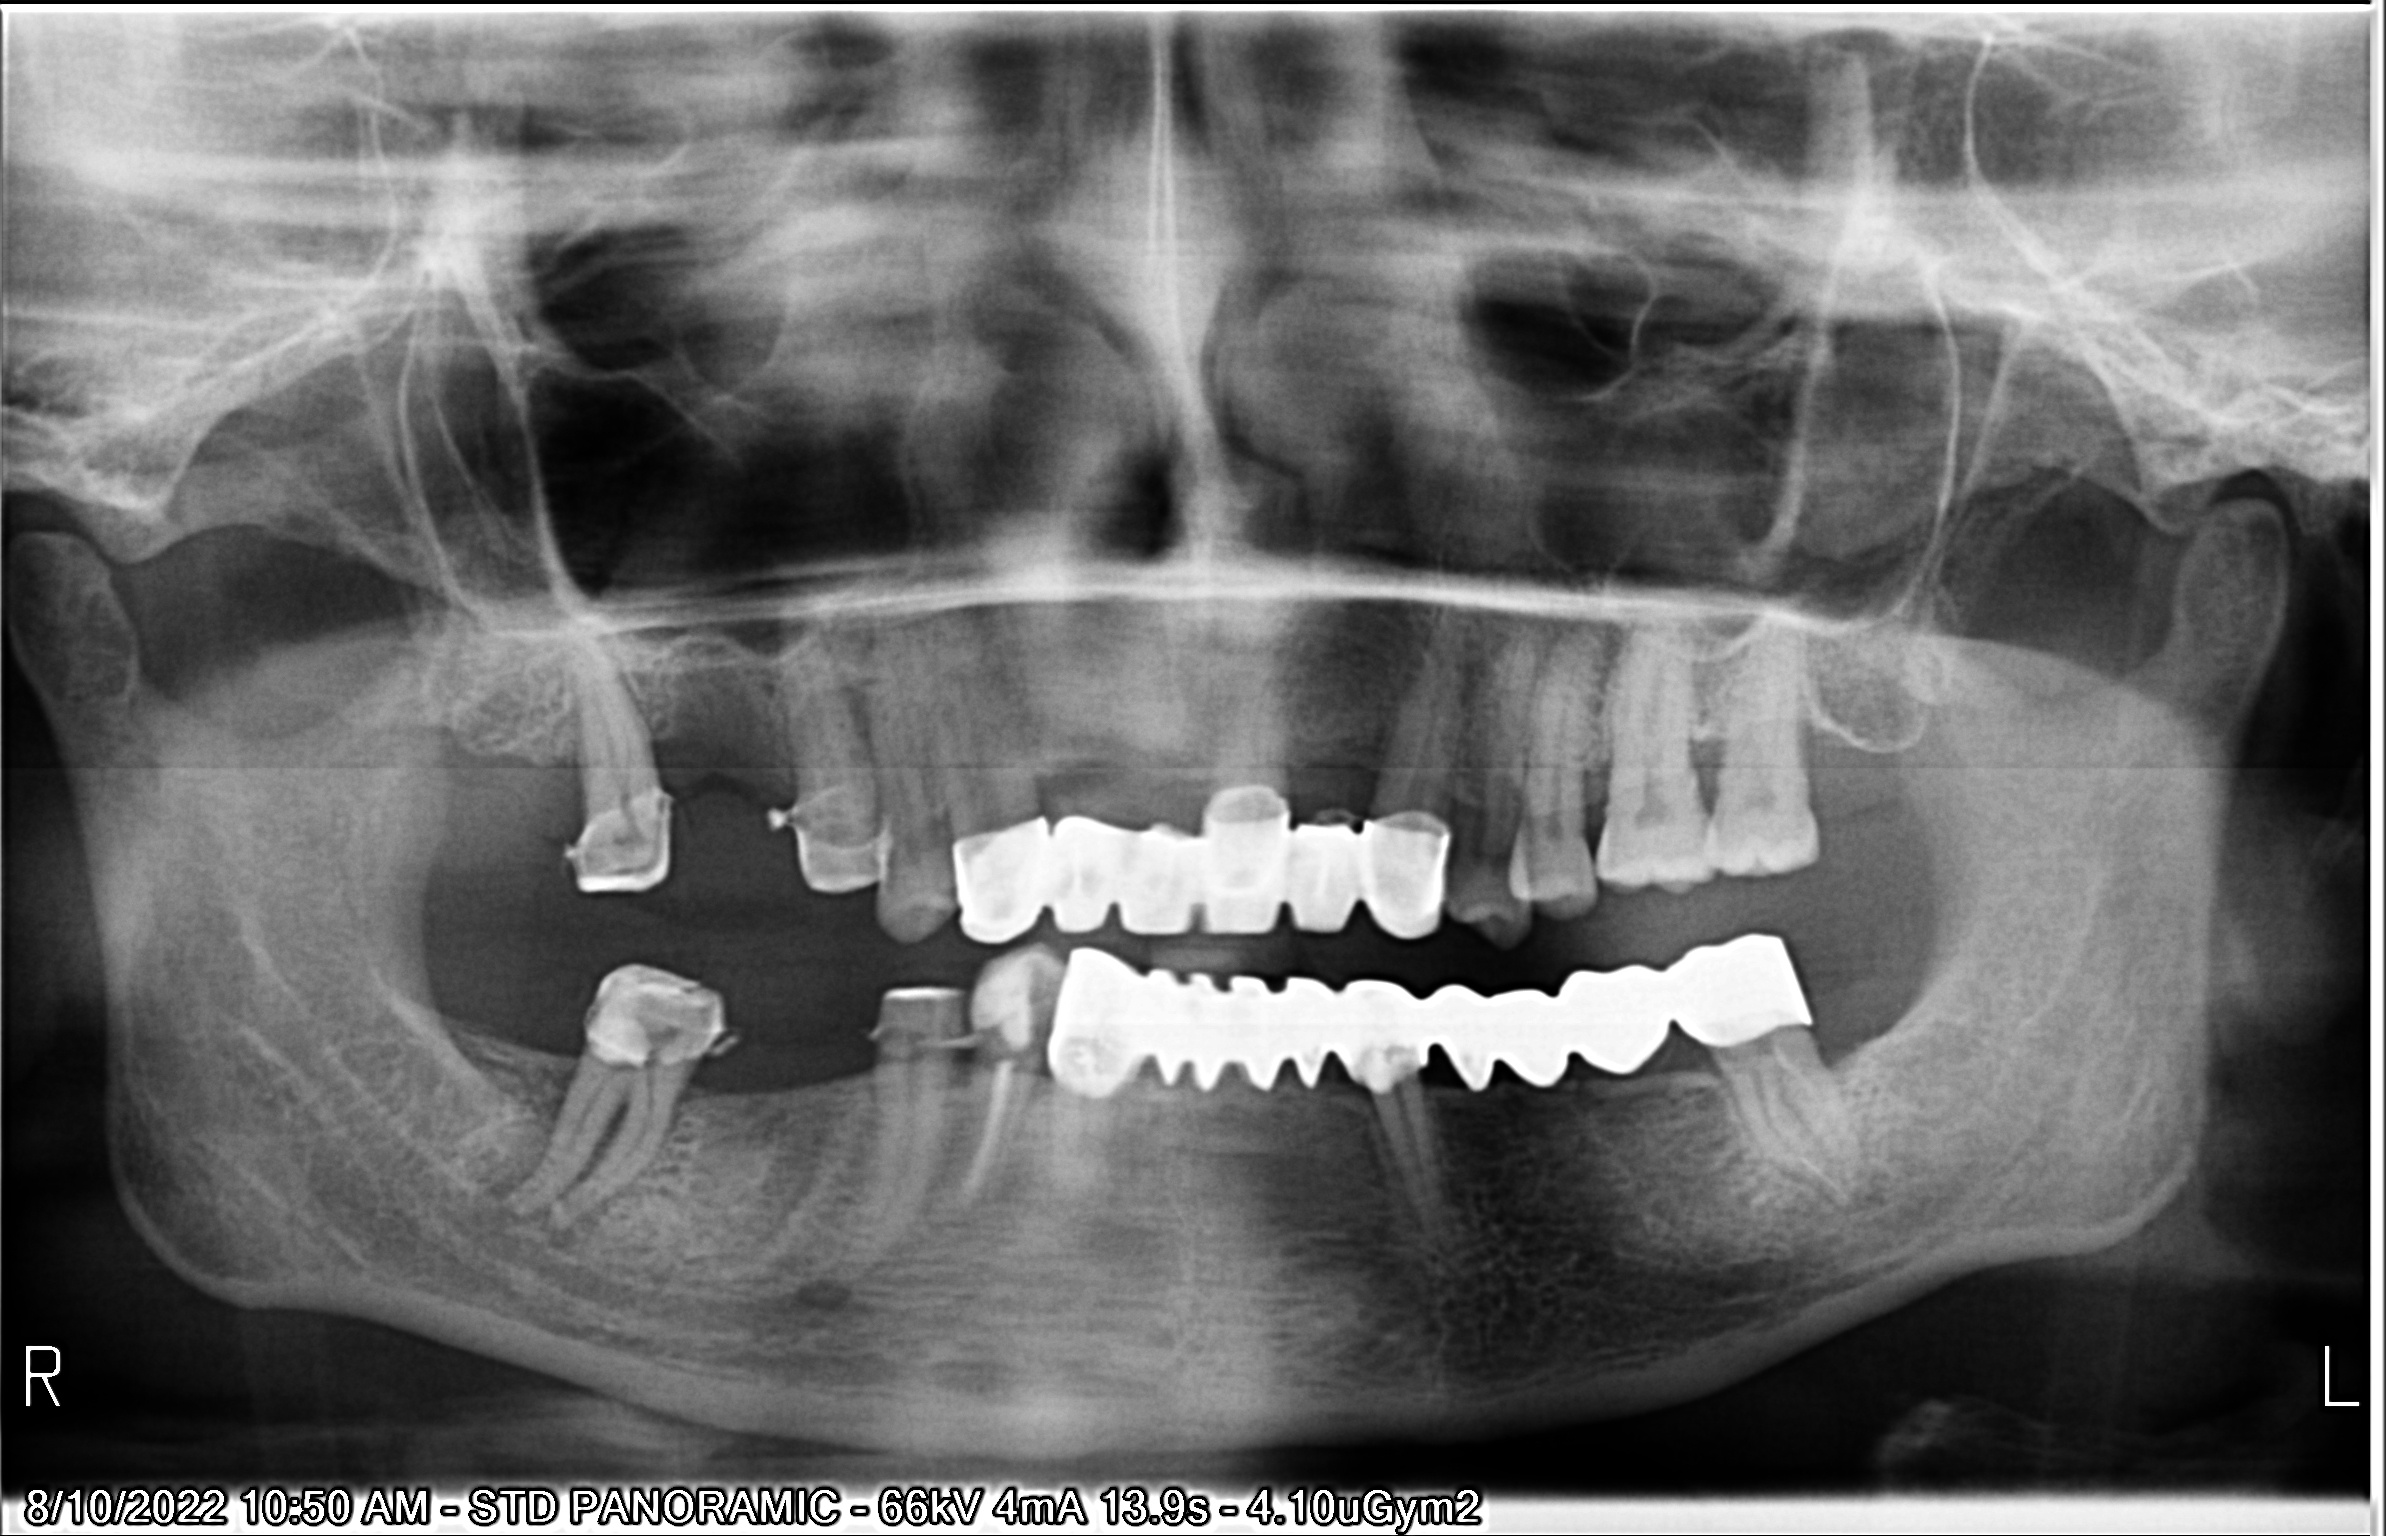BON: (756, 320, 2381, 1145), (798, 303, 2386, 1106), (840, 284, 2386, 1072)
CAR: (843, 529, 2386, 1536)
END: (421, 449, 1464, 1536)
OBT: (452, 404, 1489, 1472)
PRR: (92, 362, 1948, 1479), (193, 303, 1668, 1265)
